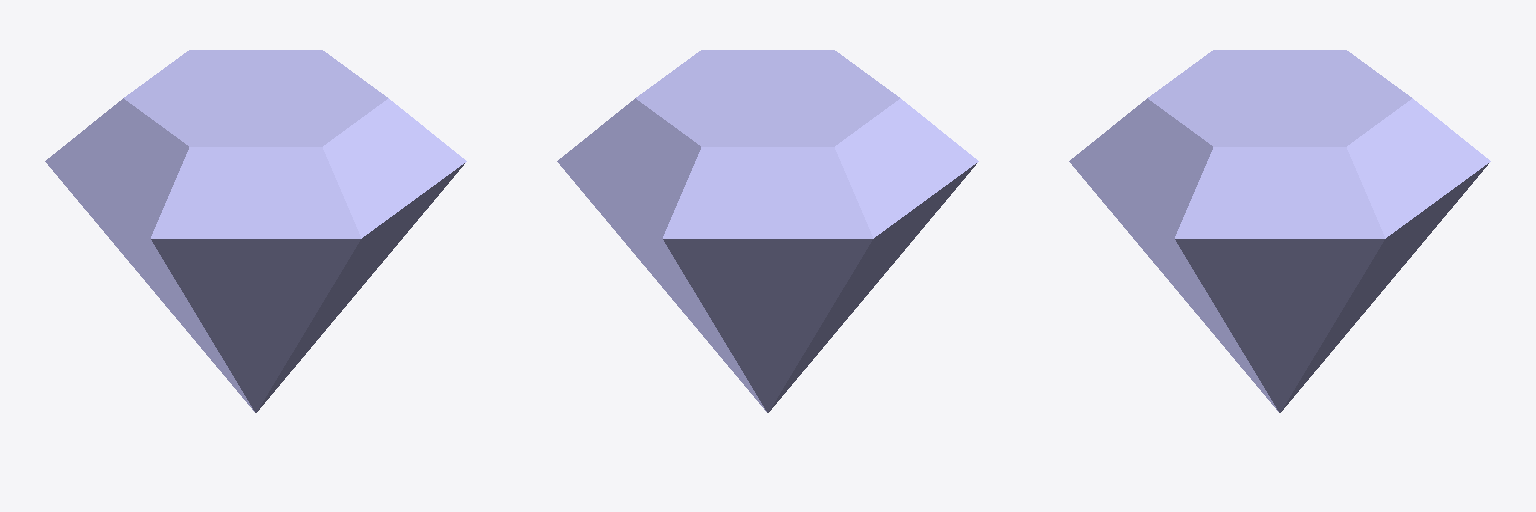
File: Diamond.obj
3 renders of one model, left to right at view 1: azimuth 30°, elevation 25°; view 2: azimuth 150°, elevation 25°; view 3: azimuth 270°, elevation 25°, orthographic.
Visible parts, largest first — view 1: cone.005; view 2: cone.005; view 3: cone.005.
Part boxes in pixels (x1,y1,x2,y2): cone.005: (45,50,466,412); cone.005: (557,50,978,412); cone.005: (1069,50,1490,412).
Size of the model in its own units: 0.5253 by 0.5 by 0.6065.